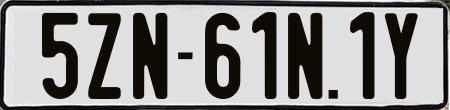1: (347, 12, 378, 102), (252, 12, 280, 104)
5: (41, 11, 78, 97)
6: (203, 12, 244, 100)
N: (288, 12, 327, 99), (133, 11, 168, 103)
Y: (383, 11, 418, 99)
Z: (86, 10, 120, 99)
